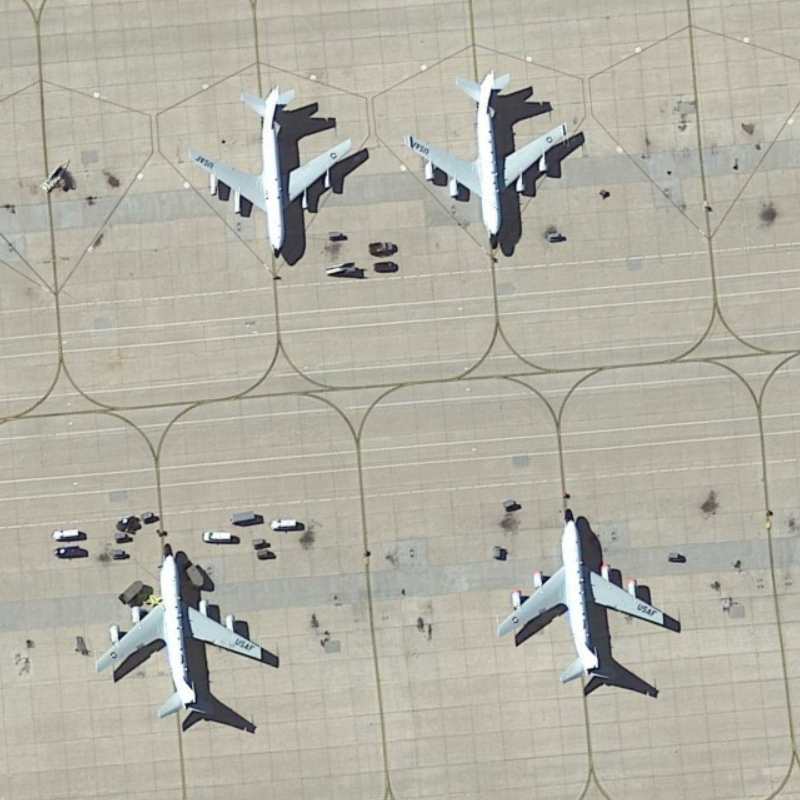A11: (88, 531, 281, 728), (485, 496, 671, 693), (396, 68, 583, 259), (181, 80, 358, 266)
